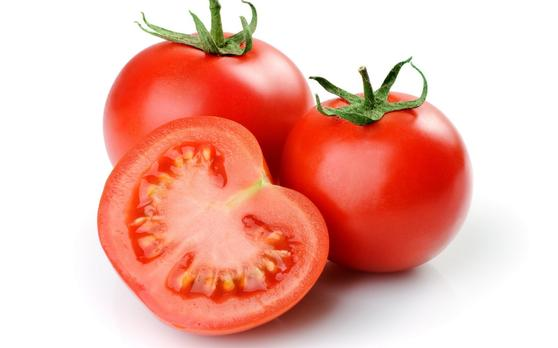tomato: (283, 75, 476, 279)
